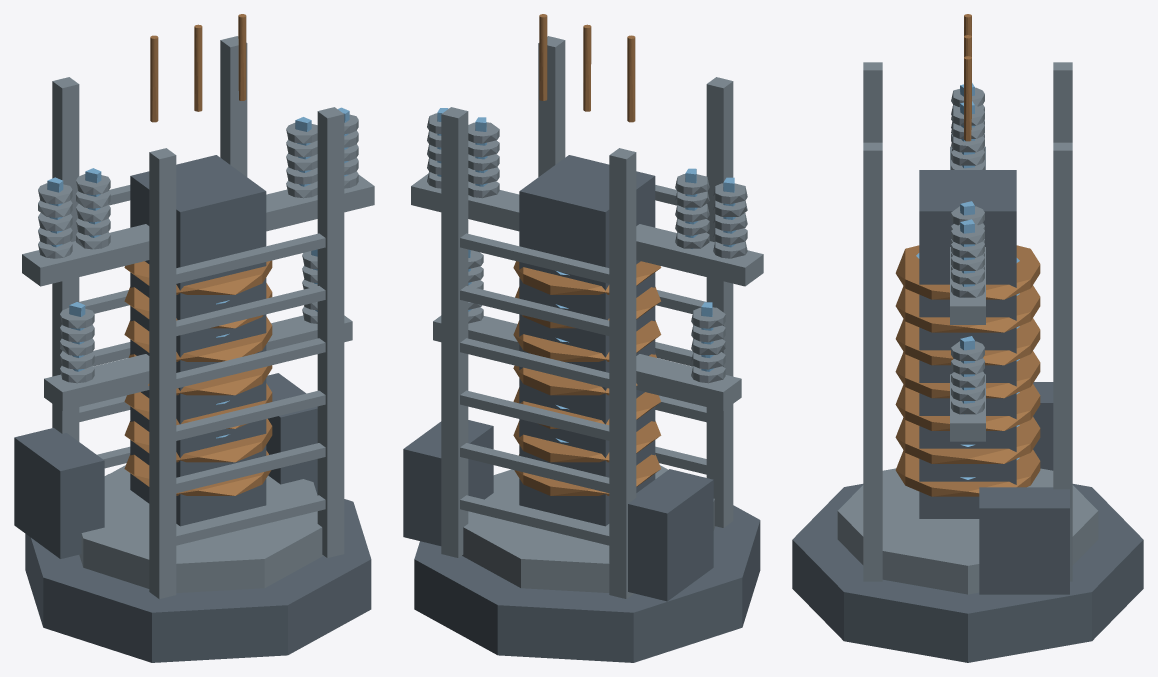
Rendered from relay_t2_d0.glb.
The picture shows the model from 3 angles, left to right: view 1: azimuth 30°, elevation 25°; view 2: azimuth 150°, elevation 25°; view 3: azimuth 270°, elevation 25°; orthographic projection. The views are drawn at different scales.
Parts seen in each view (by area): view 1: ROOT_ARMOR_GEOMETRY; view 2: ROOT_ARMOR_GEOMETRY; view 3: ROOT_ARMOR_GEOMETRY.
Boxes of the visible parts, x1,y1,x2,y2 form: ROOT_ARMOR_GEOMETRY: [14, 14, 374, 662]; ROOT_ARMOR_GEOMETRY: [403, 14, 763, 662]; ROOT_ARMOR_GEOMETRY: [792, 14, 1143, 662].
Size of the model in its own units: 1.67 by 2.69 by 1.55.
